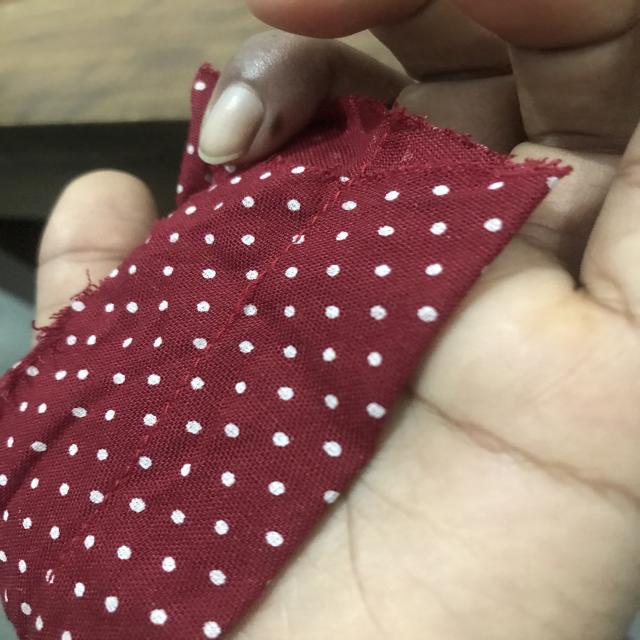skip: (208, 257, 276, 312)
